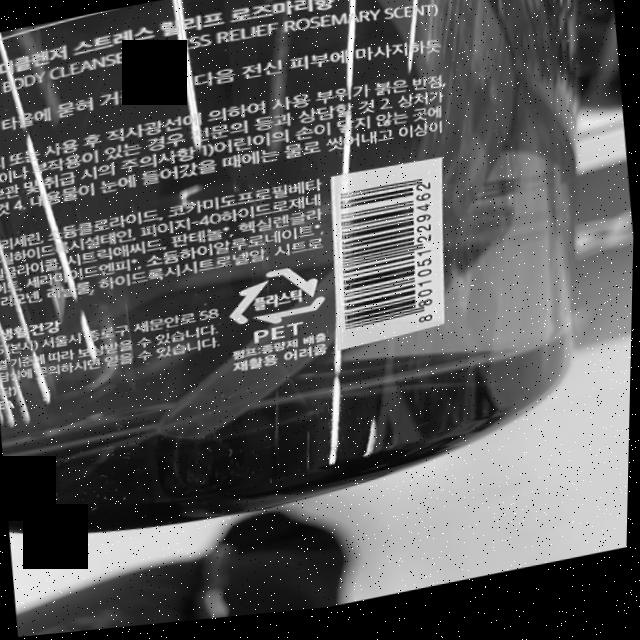Plastic: (223, 262, 331, 339)
